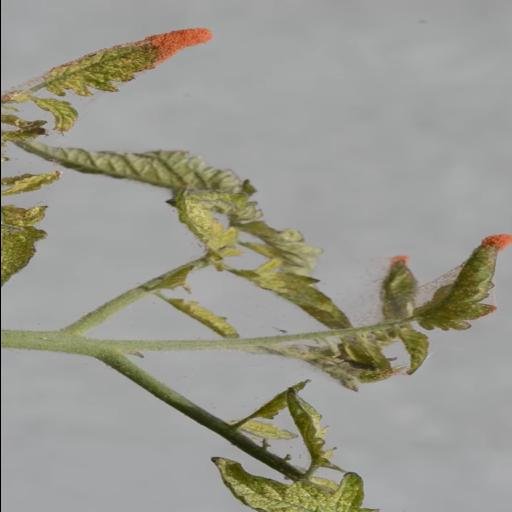Spider Mites: (210, 456, 378, 512), (232, 258, 352, 330), (45, 40, 159, 97), (175, 182, 243, 256)
